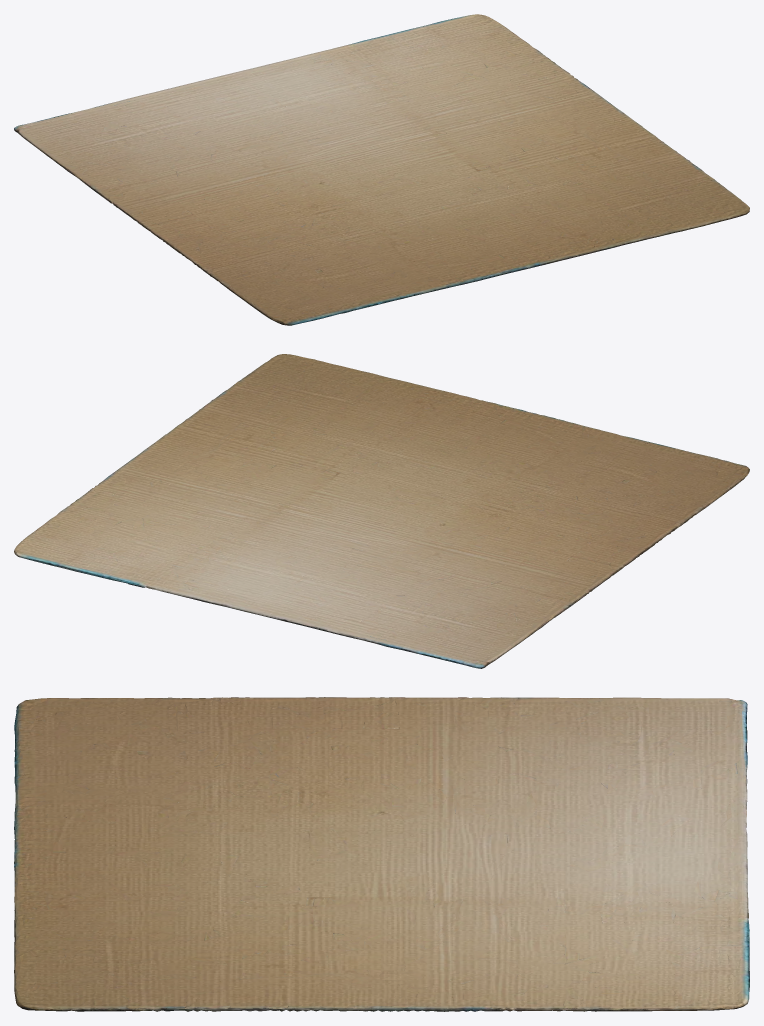
The model's file is ast_f07062218262.glb.
3 renders of one model, top to bottom at view 1: azimuth 30°, elevation 25°; view 2: azimuth 150°, elevation 25°; view 3: azimuth 270°, elevation 25°, orthographic. The views are drawn at different scales.
Visible parts, largest first — view 1: geometry_0; view 2: geometry_0; view 3: geometry_0.
Boxes of the visible parts, <box> form: geometry_0: <box>14,14,749,325</box>; geometry_0: <box>14,354,749,668</box>; geometry_0: <box>14,697,749,1011</box>.
Size of the model in its own units: 0.9986 by 0.00762 by 0.9957.
1 material, 1 textured.
